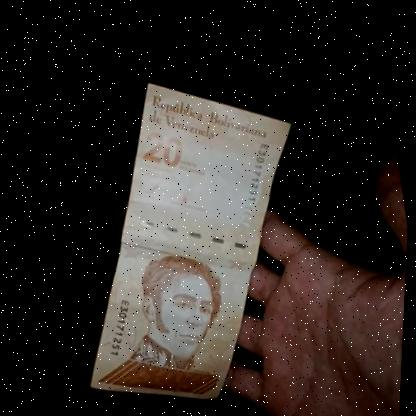twenty-front-vef: (35, 45, 344, 416)
